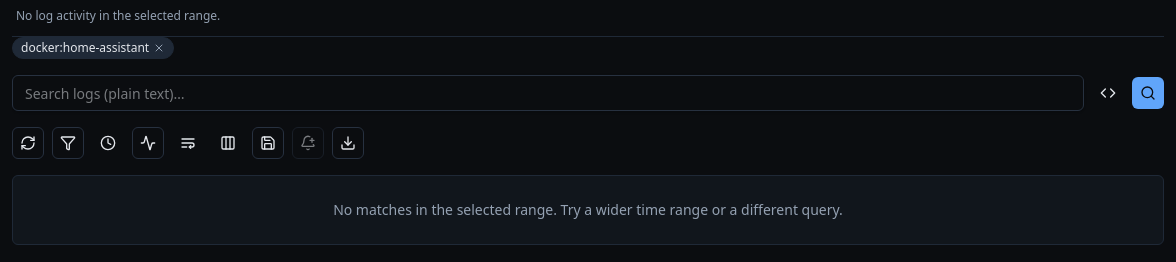
Test case: LogsExplorerPage › chip × removes the service
The width and height of the screenshot is (1176, 262).
Expected: the field with test id "logs-search-input" is shown, [12, 75, 1084, 111]
Expected: the element with test id "service-chip" is shown, [12, 37, 174, 59]
Click the button with test id "service-chip-remove".
click(159, 48)  # box [153, 42, 165, 54]
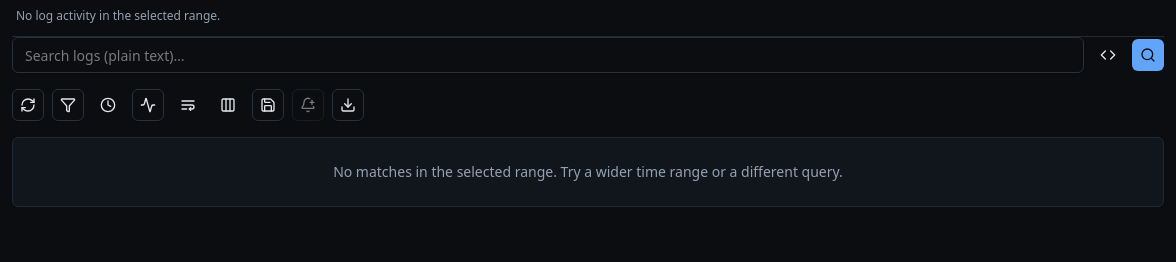
Expected: the element with test id "service-chip" is gone
